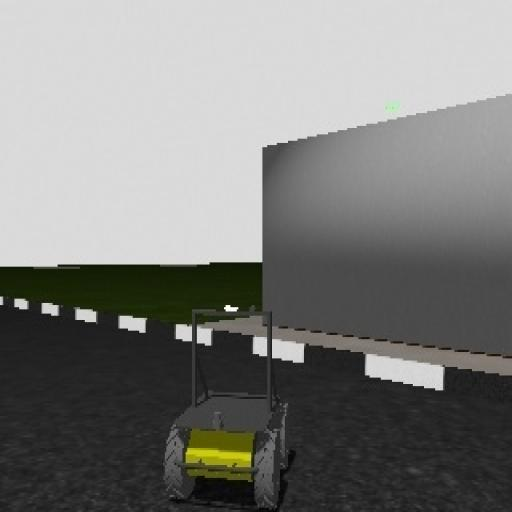huskya200: (153, 300, 305, 510)
